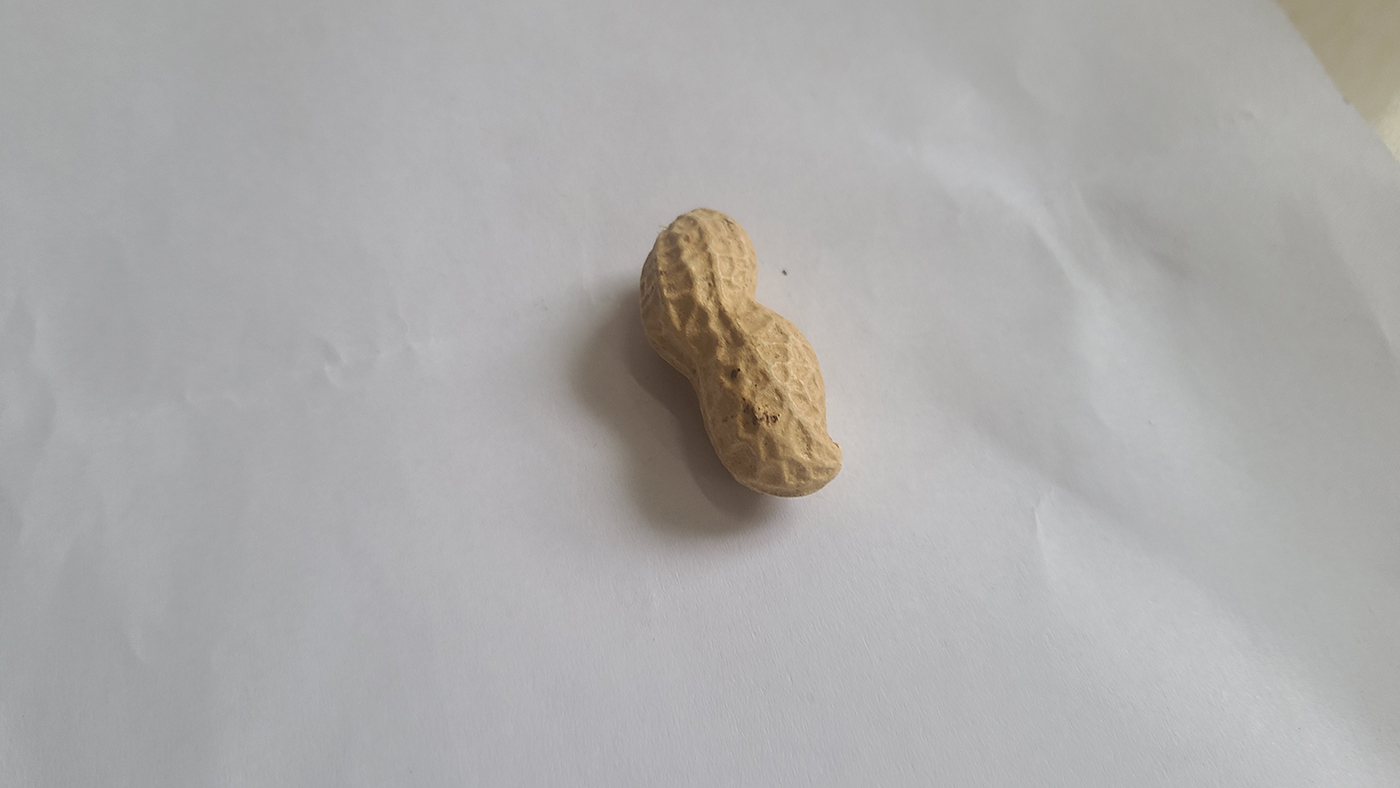h: (639, 205, 843, 498)
